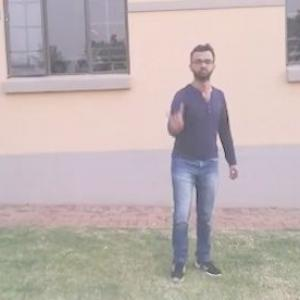takeoff-hand: (161, 99, 189, 137)
